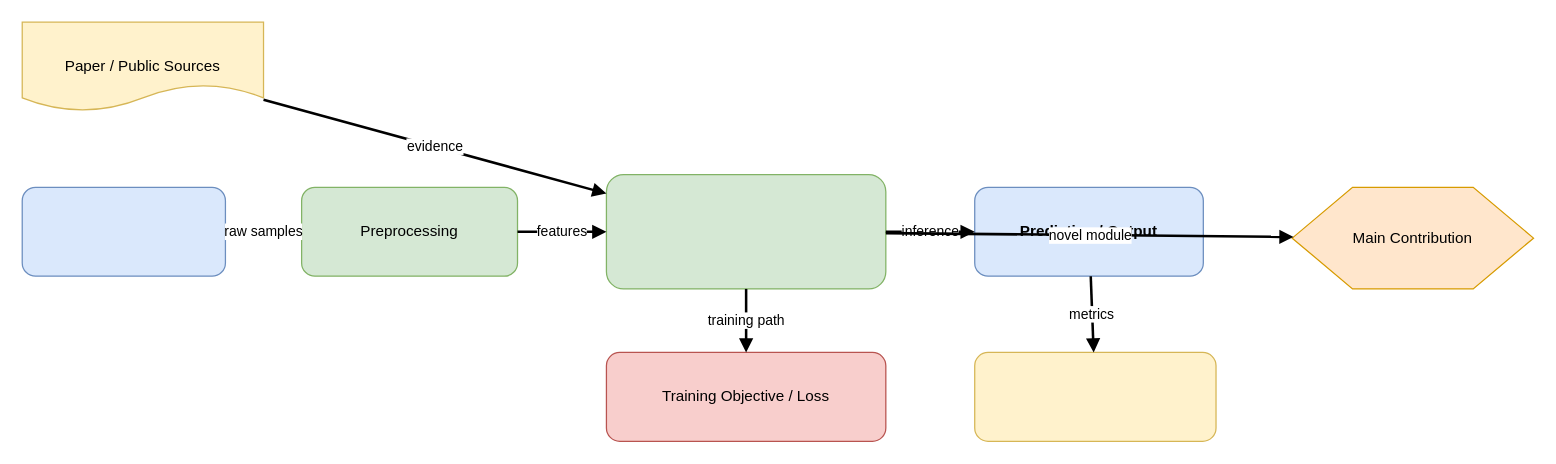
Image size: 1556x464. Some labels were removed from this diagram. Here are the shapes that lost their labels. From the top down, the centre of each, then its label:
At (123,231): "Input Data".
At (745,231): "Core Algorithm / Model".
At (1094,396): "Benchmark / Evaluation".
